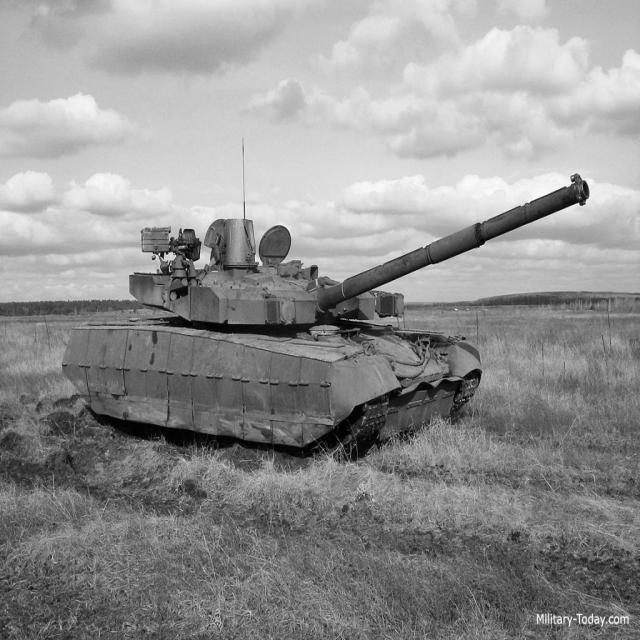Tank: (60, 164, 600, 462)
